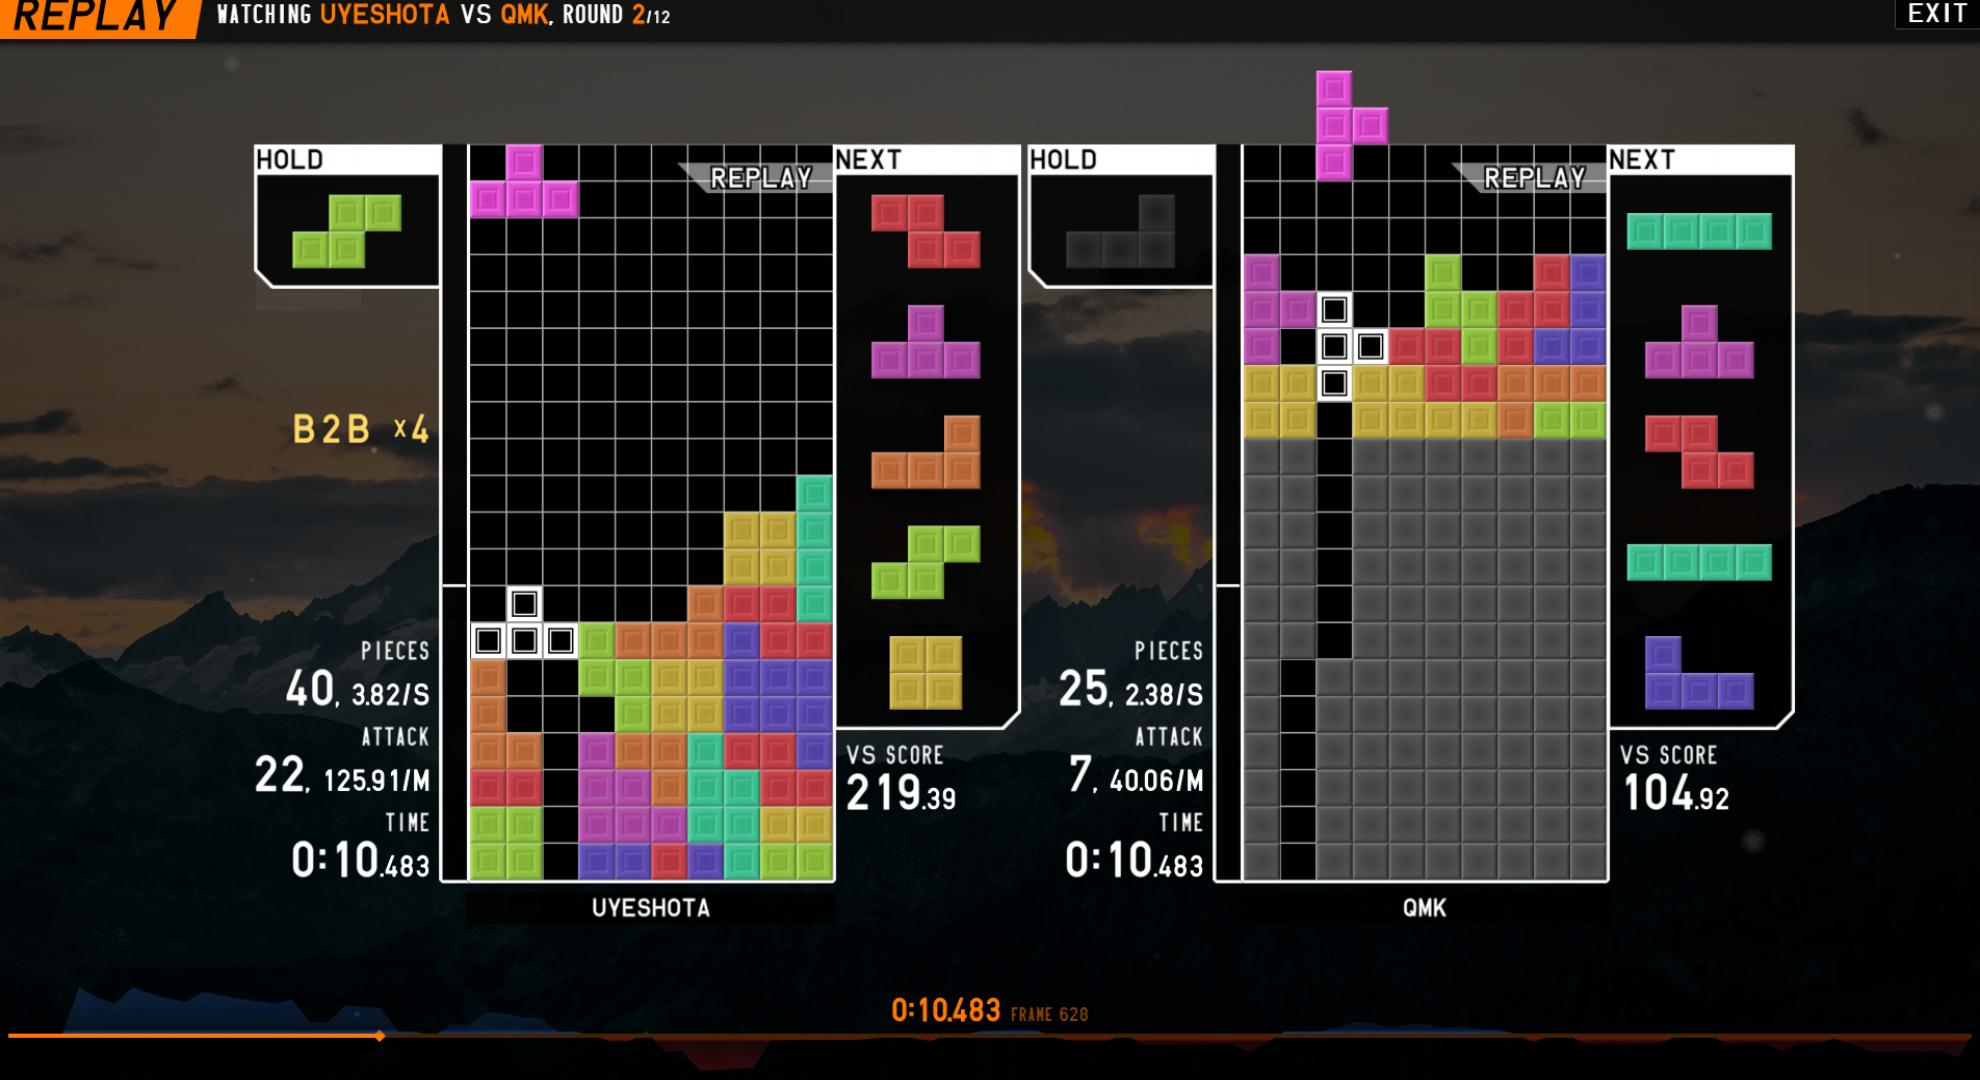tspin: (505, 653, 621, 774), (1277, 291, 1394, 408)
